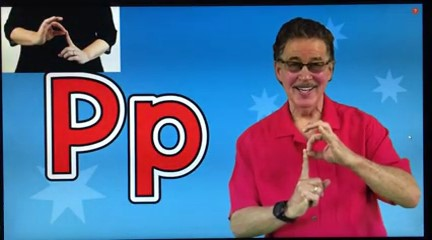P: (279, 117, 351, 225)
